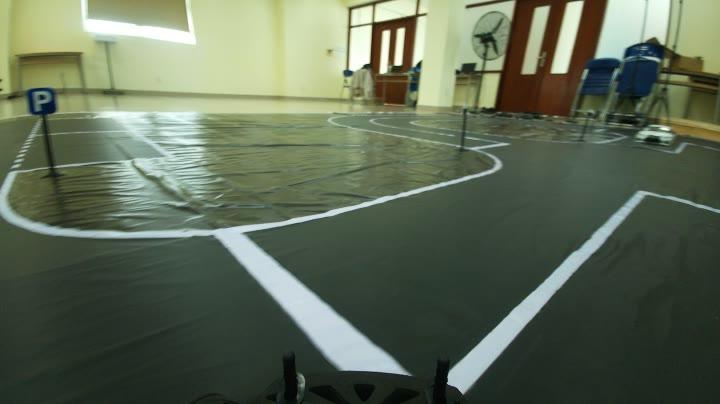parking: (15, 79, 63, 117)
